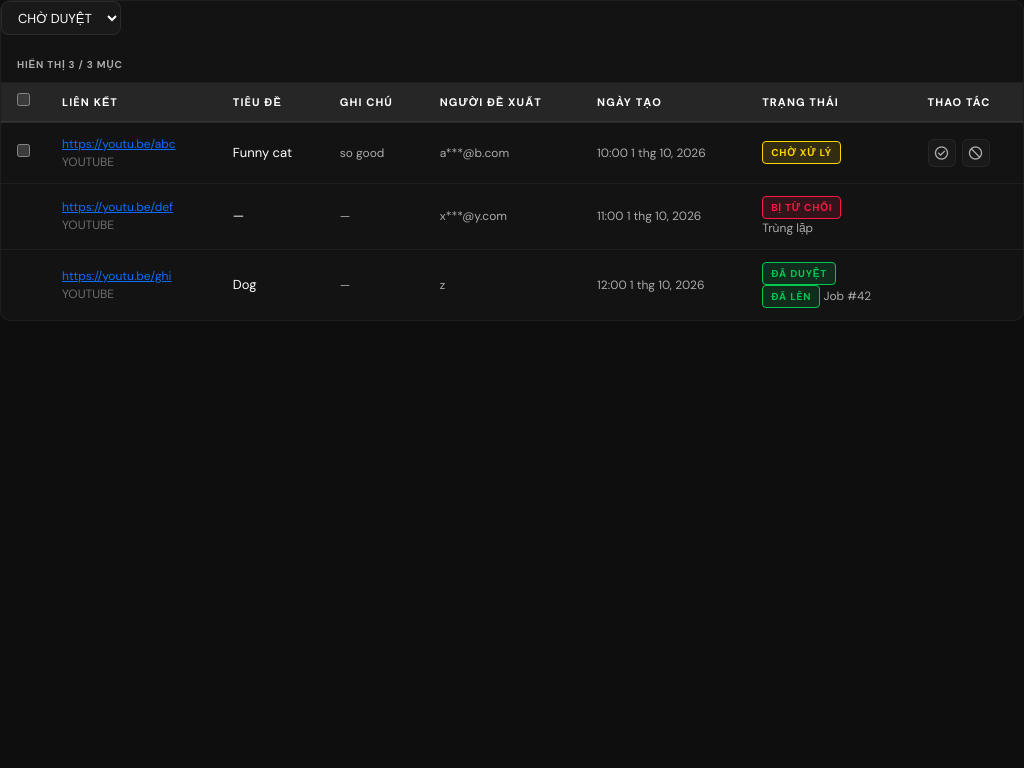
Test: AdminSuggestionTable › falls back to the API message for other errors
Expected: the text "Funny cat" is shown, [217, 122, 324, 183]
Click the button named "Duyệt" at (942,152), box [928, 138, 956, 166]
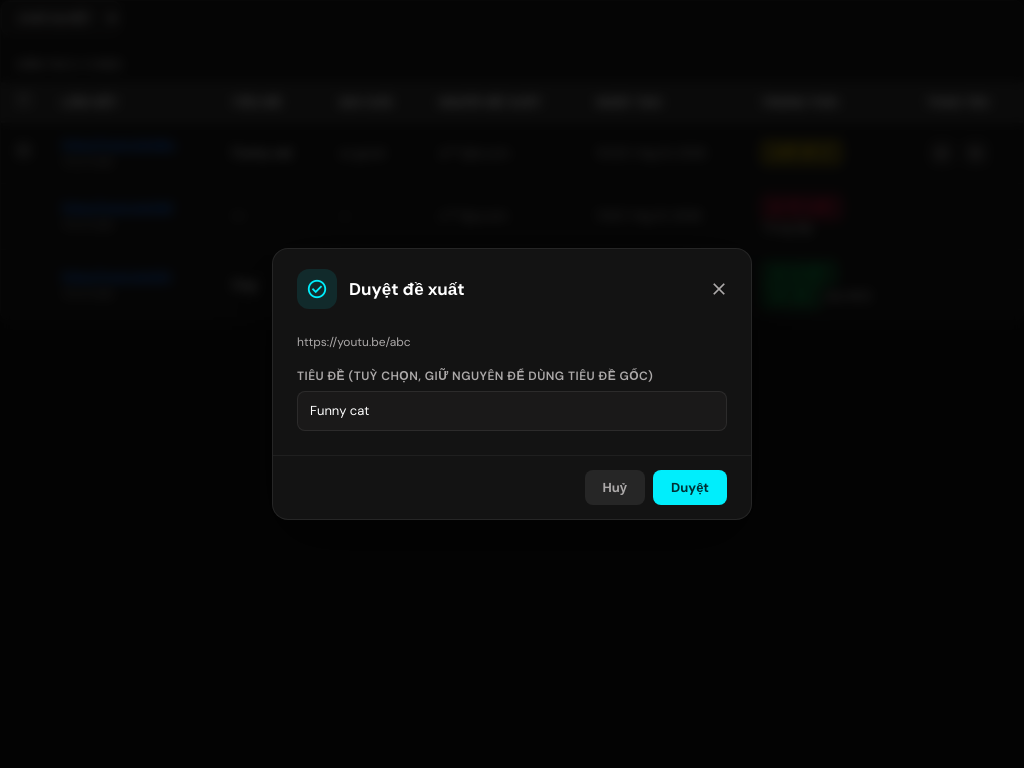
Click the button "Duyệt" at (690,487), box [653, 470, 727, 505]
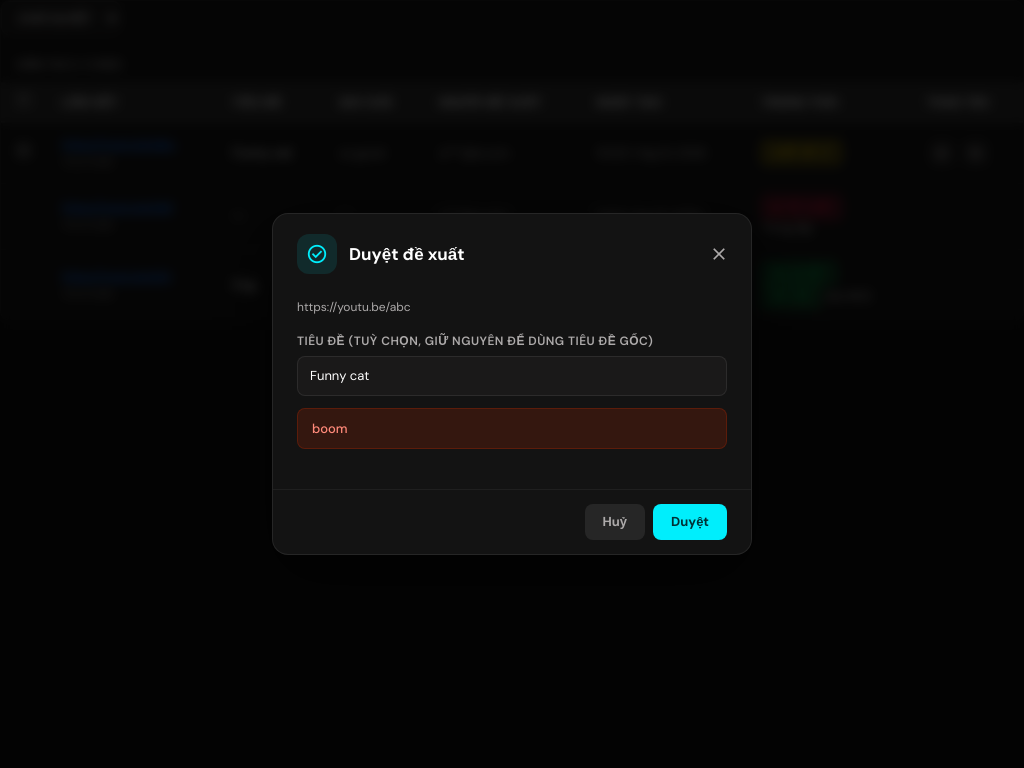
Expected: the text "boom" is shown, [297, 408, 727, 449]
